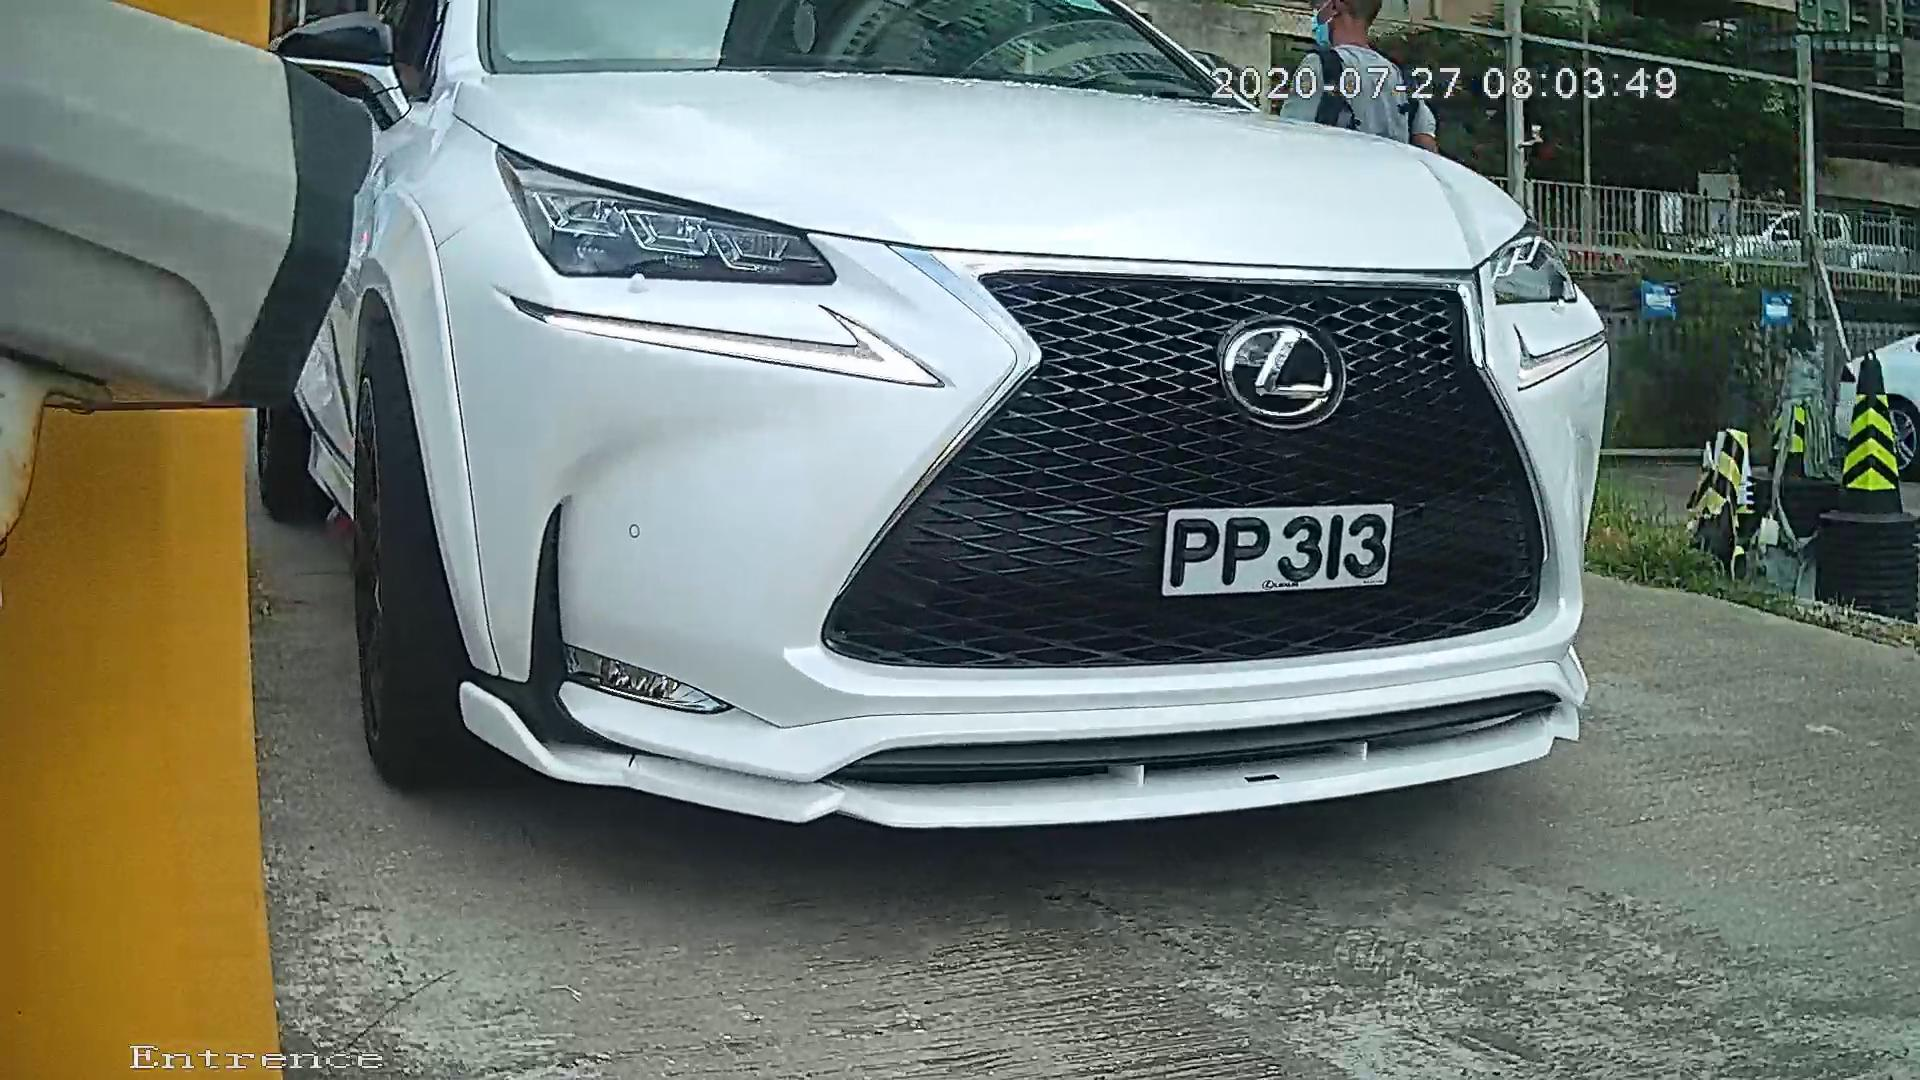License Plate: (1132, 483, 1415, 618)
